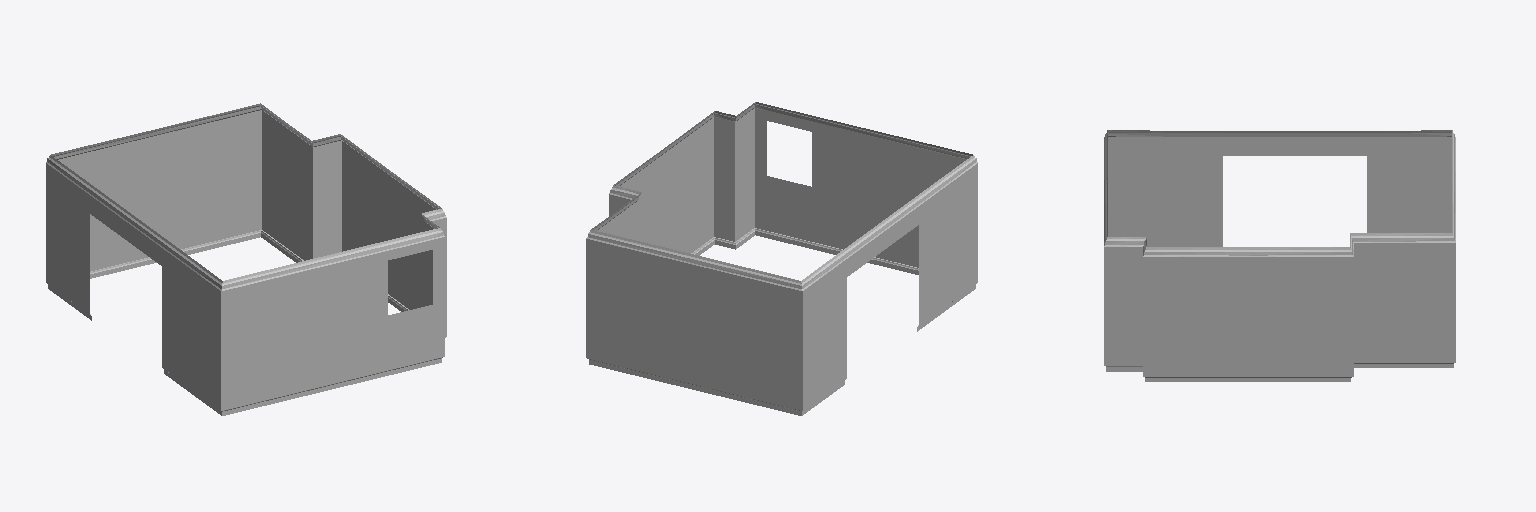
The model's file is walls.obj.
3 renders of one model, left to right at view 1: azimuth 30°, elevation 25°; view 2: azimuth 150°, elevation 25°; view 3: azimuth 270°, elevation 25°, orthographic.
Visible parts, largest first — view 1: Plane.005_Plane.006; view 2: Plane.005_Plane.006; view 3: Plane.005_Plane.006.
Boxes of the visible parts, x1,y1,x2,y2 form: Plane.005_Plane.006: [46, 103, 446, 415]; Plane.005_Plane.006: [586, 102, 977, 415]; Plane.005_Plane.006: [1104, 130, 1455, 381].
Size of the model in its own units: 7.37 by 3.87 by 9.16.